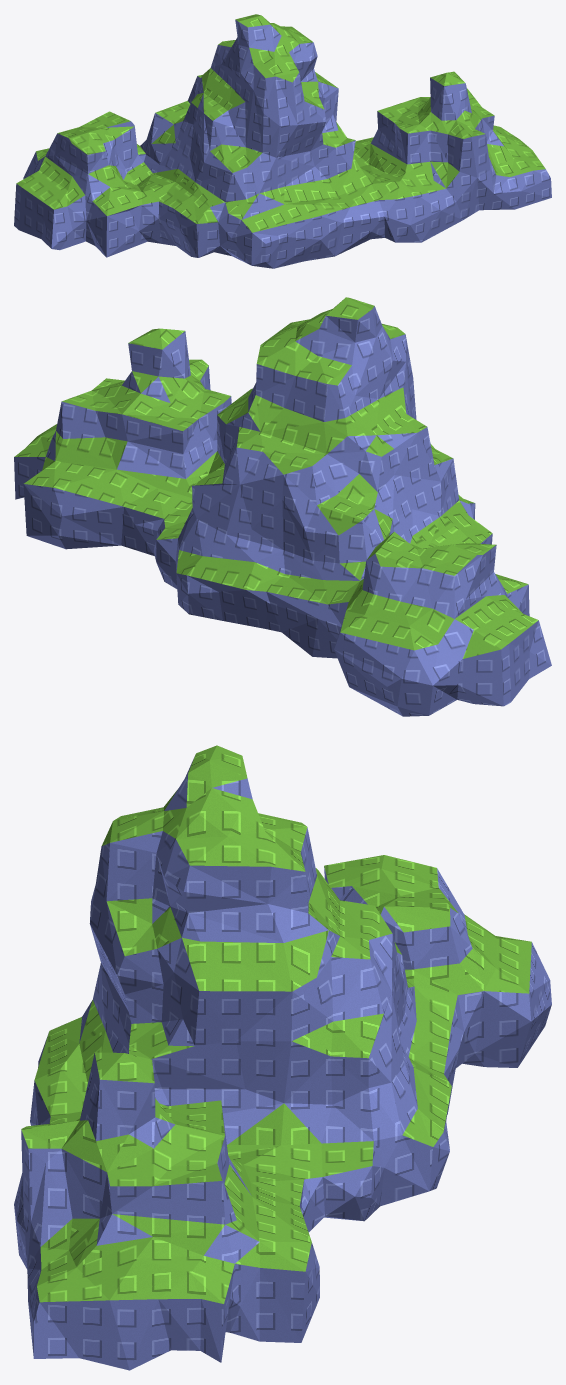
Rendered from CliffRocks.glb.
3 views of the same model, one above another, from view 1: azimuth 30°, elevation 25°; view 2: azimuth 150°, elevation 25°; view 3: azimuth 270°, elevation 25° (orthographic). The views are drawn at different scales.
Parts seen in each view (by area): view 1: CliffRocks_Rock, CliffRocks_Top; view 2: CliffRocks_Rock, CliffRocks_Top; view 3: CliffRocks_Rock, CliffRocks_Top.
Part boxes in pixels (x1=…): CliffRocks_Rock: x1=14, y1=20, x2=551, y2=268; CliffRocks_Top: x1=16, y1=14, x2=545, y2=232; CliffRocks_Rock: x1=14, y1=306, x2=551, y2=716; CliffRocks_Top: x1=14, y1=297, x2=538, y2=658; CliffRocks_Rock: x1=14, y1=757, x2=551, y2=1370; CliffRocks_Top: x1=21, y1=745, x2=531, y2=1303.
Bounding box in the file's own units: 26.36 × 12.95 × 15.49.
2 materials, 2 textured.
